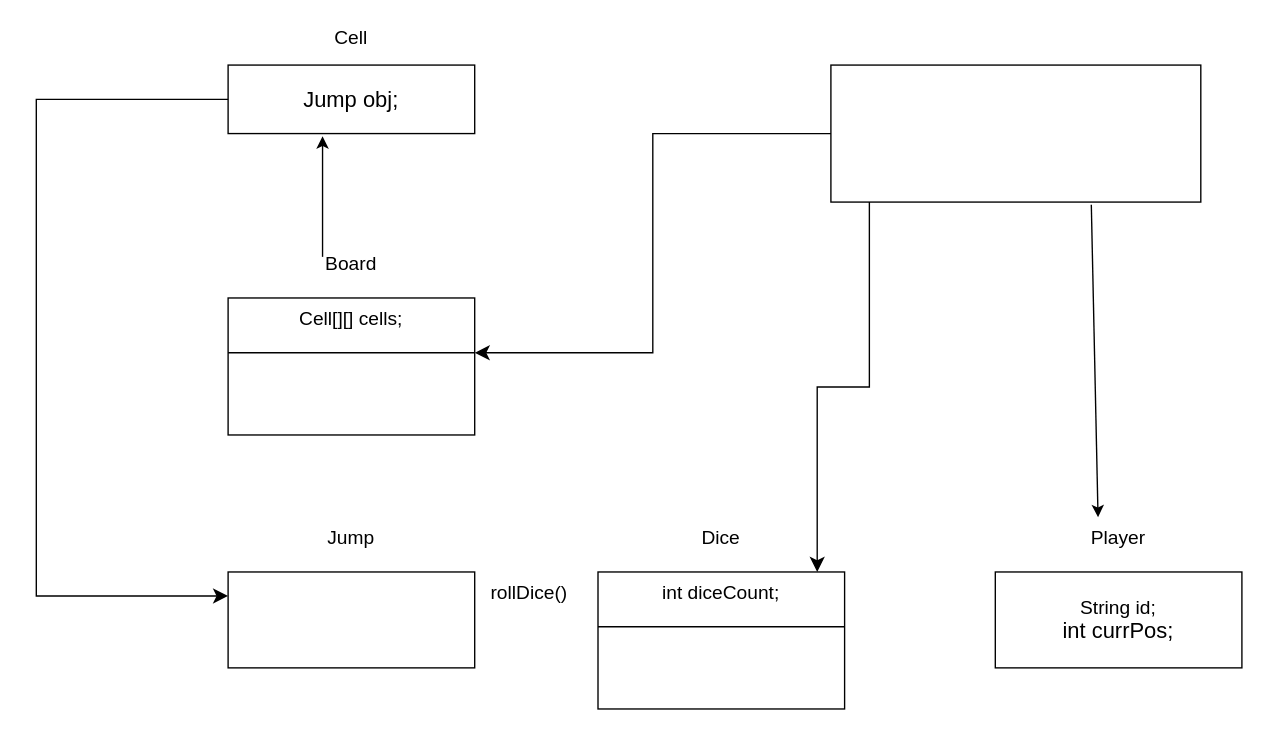
Image size: 1266x733. Some labels were removed from this diagram. The shapes that lost their labels are listed below. From the top down, each one's box as (x1, y1, x2, y2) in pixels, then its label:
(830, 64, 1201, 202): Board board; Dice dice; Deqeue<Player> playersList;
(227, 571, 475, 668): int start; int end;
